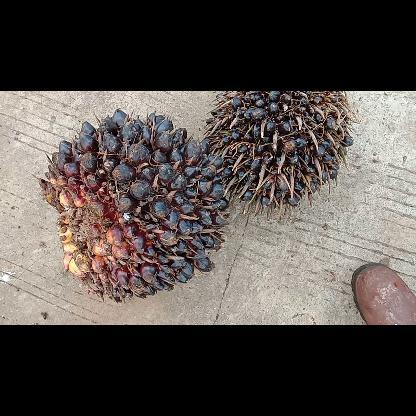TBS mentah: (34, 108, 230, 304), (199, 91, 355, 213)
